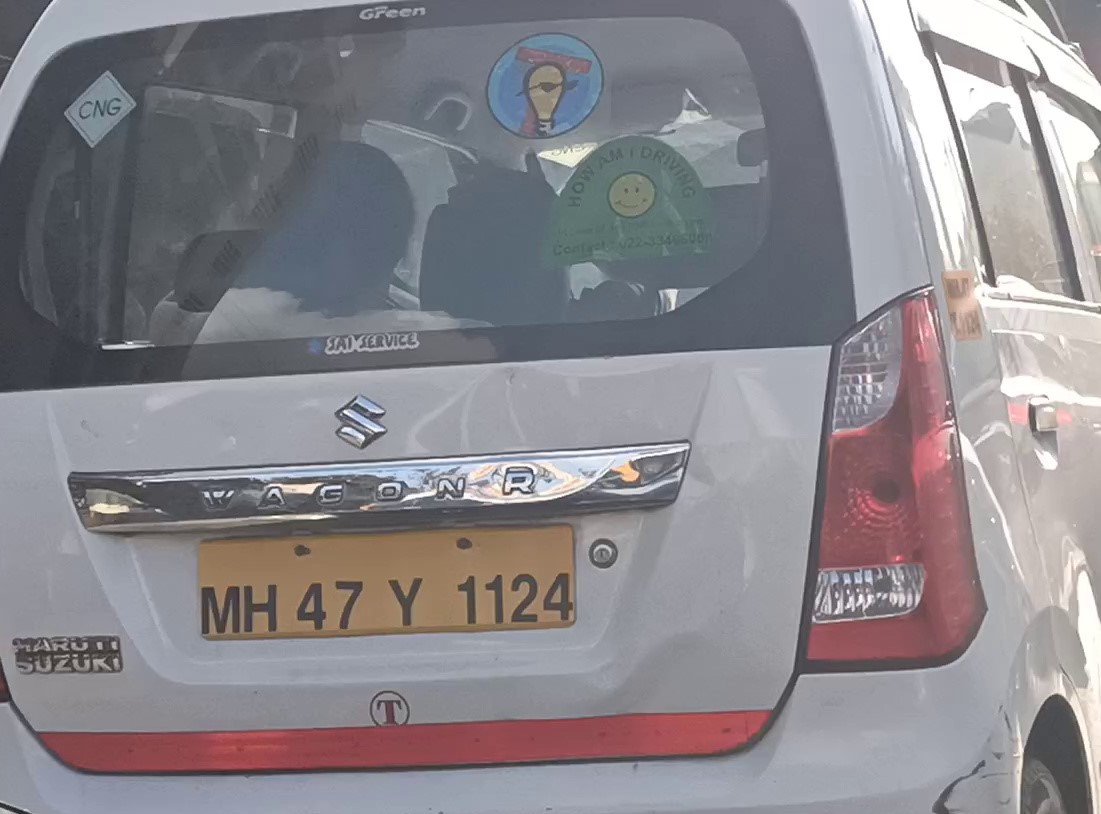MH47Y1124: (197, 524, 577, 639)
